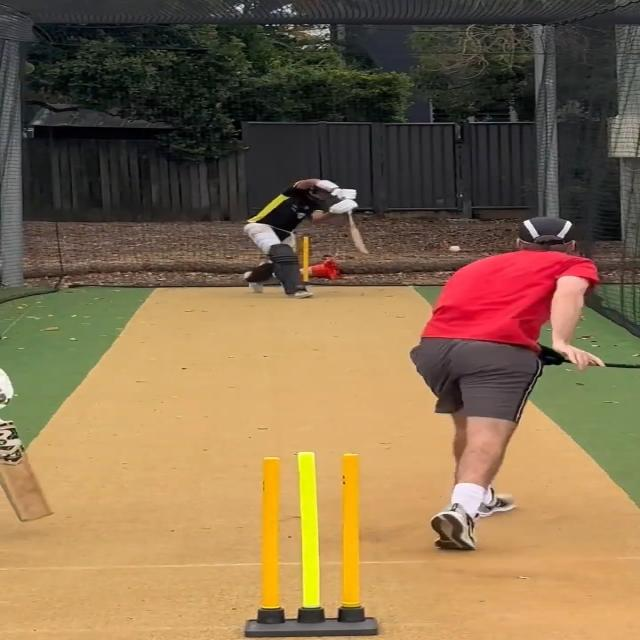ball: (447, 244, 462, 253)
stump: (243, 450, 382, 640)
